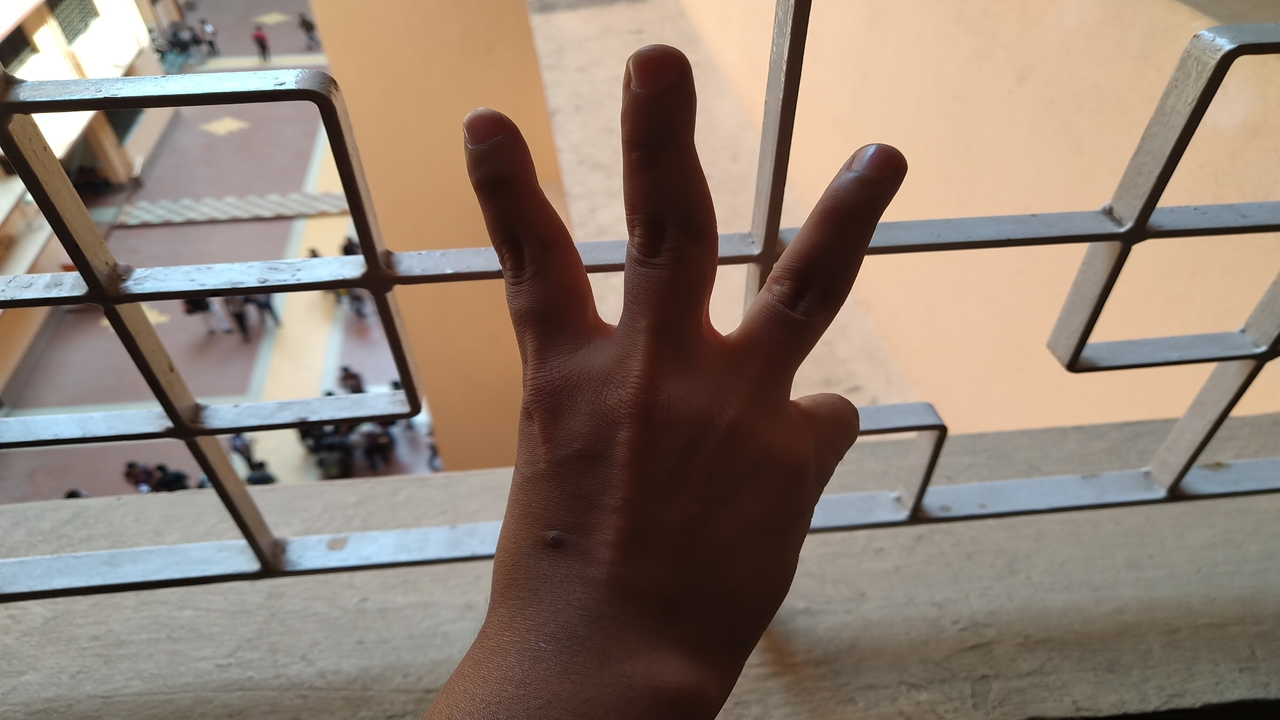fingertip: (616, 36, 698, 108), (452, 104, 524, 164), (848, 142, 912, 192)
